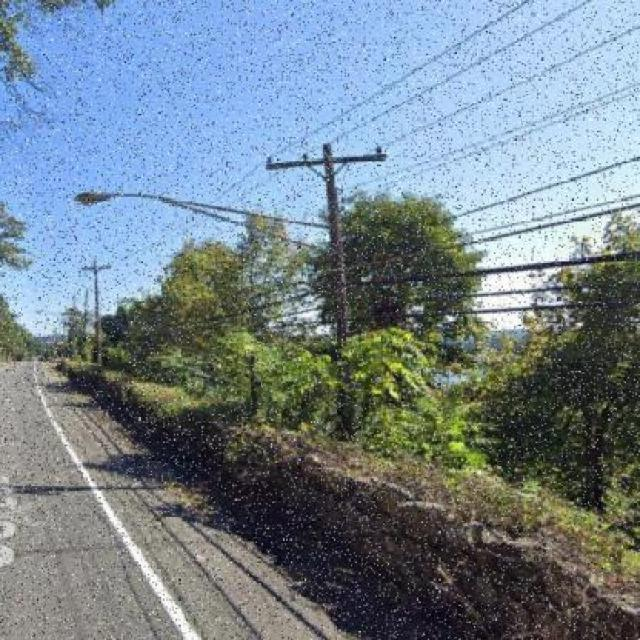pole: (220, 72, 432, 580)
